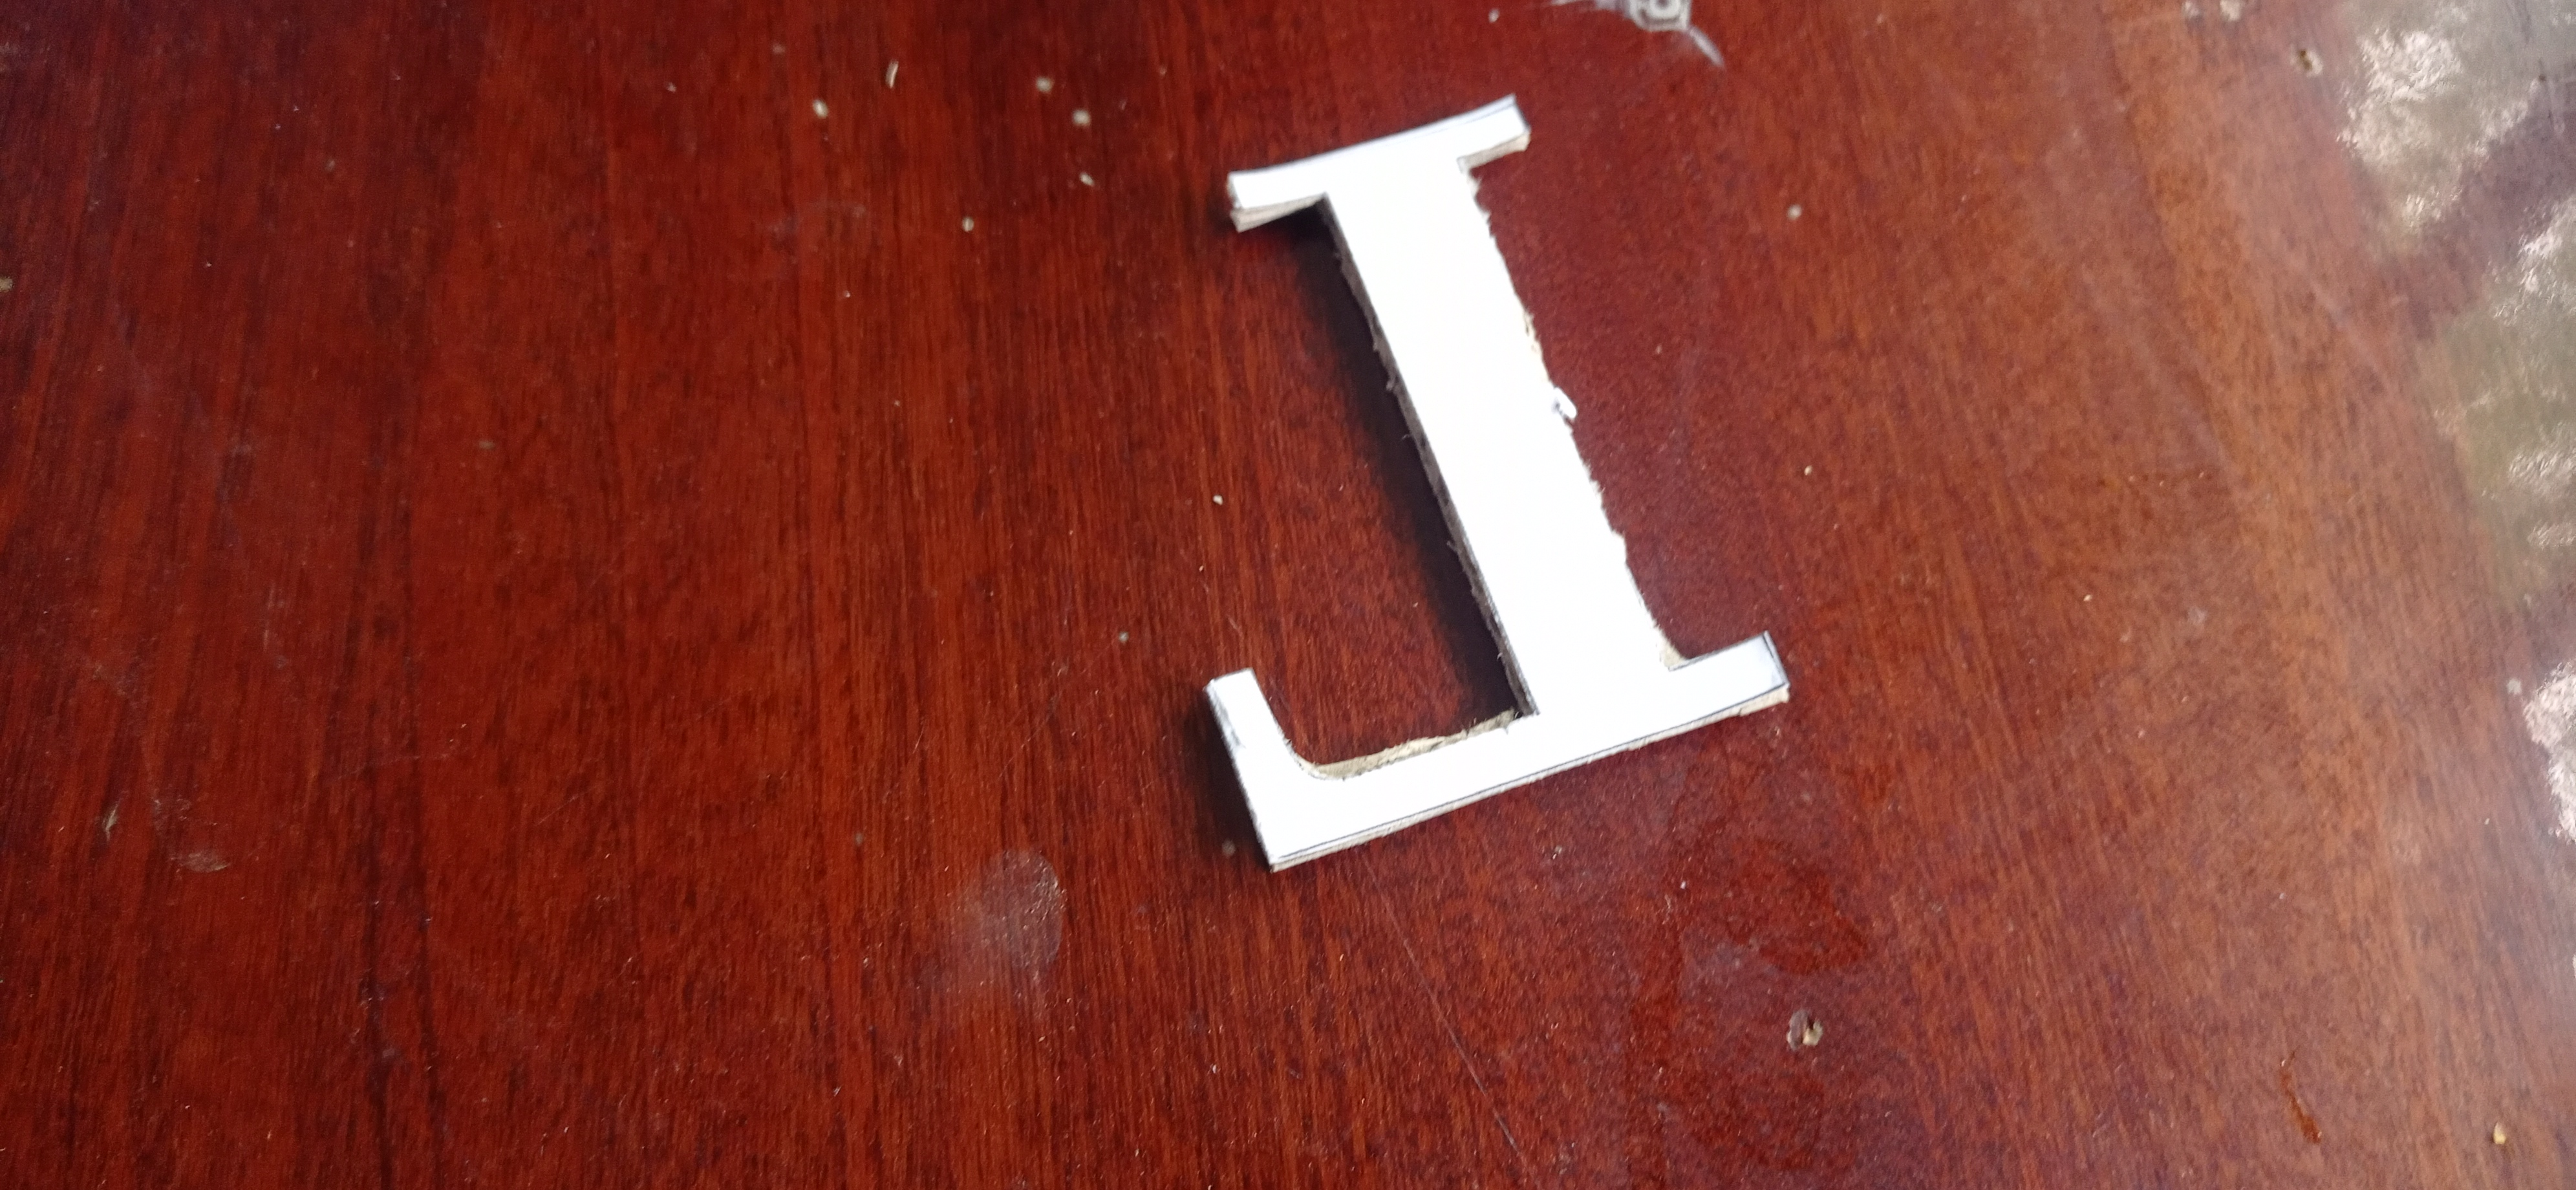g: (1201, 95, 1792, 874)
